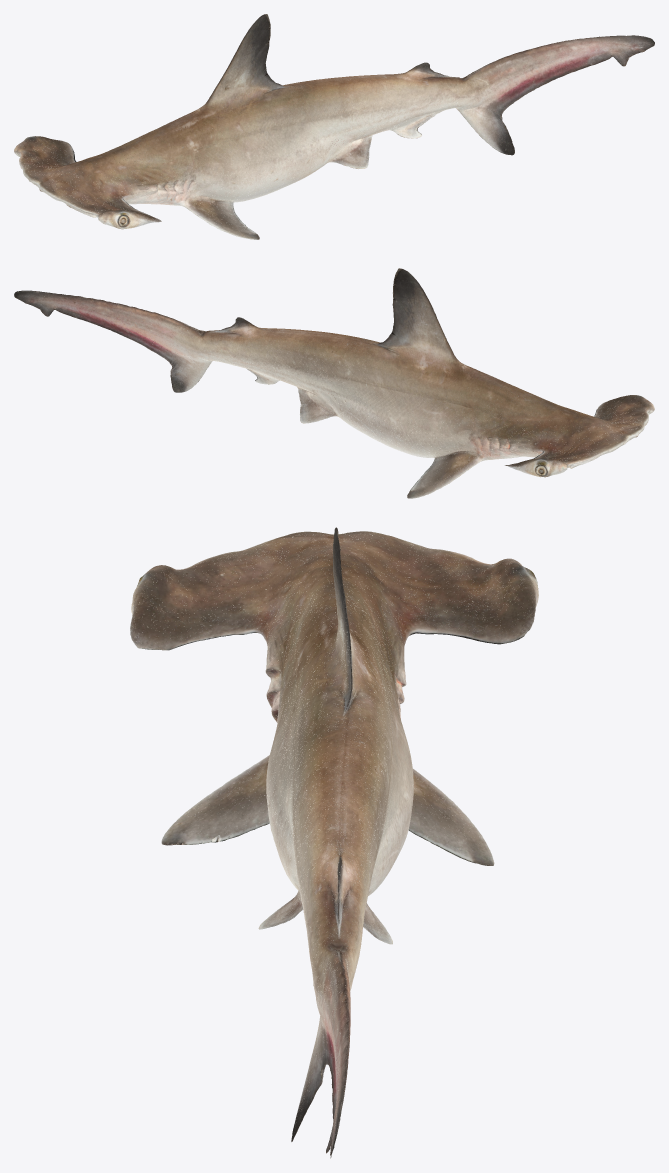
Rendered from sphyrna_lewini.glb.
3 renders of one model, top to bottom at view 1: azimuth 30°, elevation 25°; view 2: azimuth 150°, elevation 25°; view 3: azimuth 270°, elevation 25°, orthographic. The views are drawn at different scales.
Parts seen in each view (by area): view 1: Q12071-1all-4s_5; view 2: Q12071-1all-4s_5; view 3: Q12071-1all-4s_5.
Part boxes in pixels (<box>): Q12071-1all-4s_5: <box>14,14,654,239</box>; Q12071-1all-4s_5: <box>14,268,654,498</box>; Q12071-1all-4s_5: <box>130,527,538,1158</box>.
Size of the model in its own units: 27.21 by 7.99 by 7.78.
2 materials, 2 textured.
